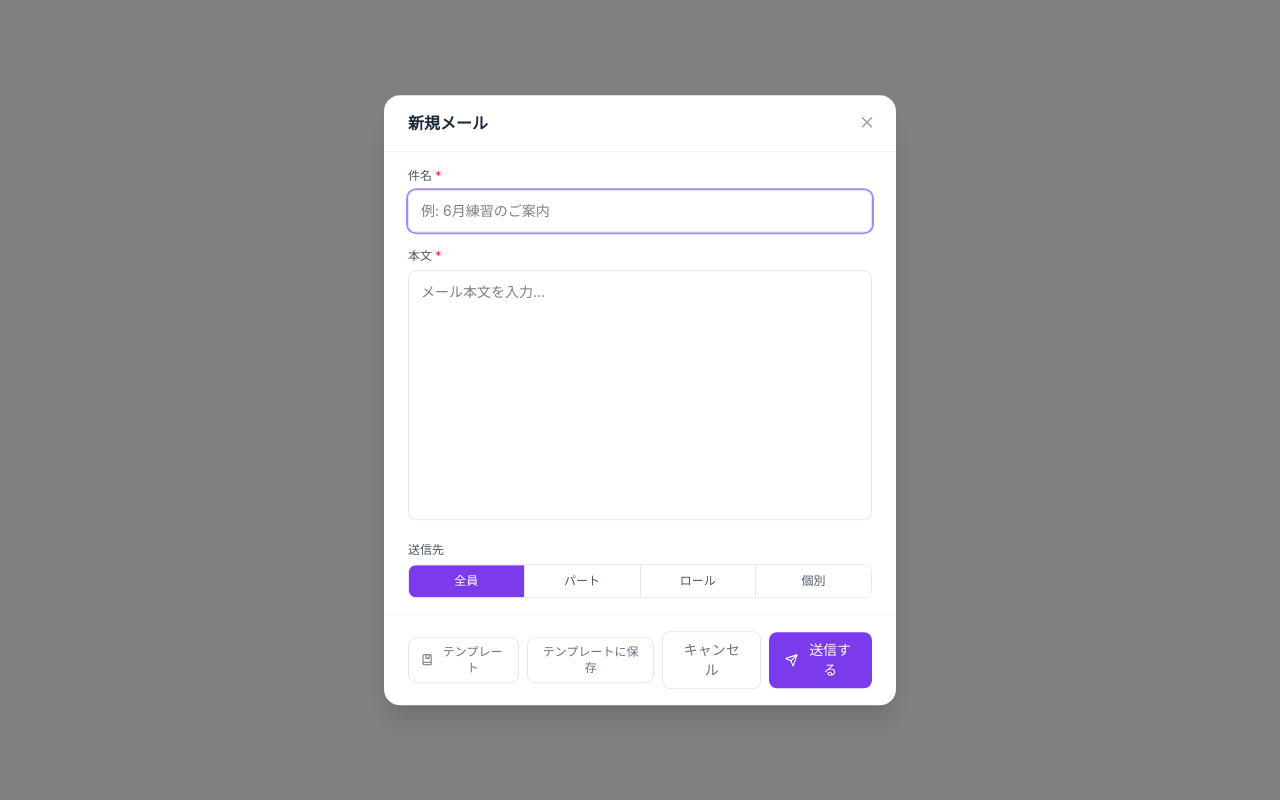
Test: ComposeModal（バリデーション） › 件名未入力で送信するとエラーメッセージを表示する
Type "本文です" into the text box with placeholder "メール本文を入力..." at point(640, 395), box [408,270,872,520]
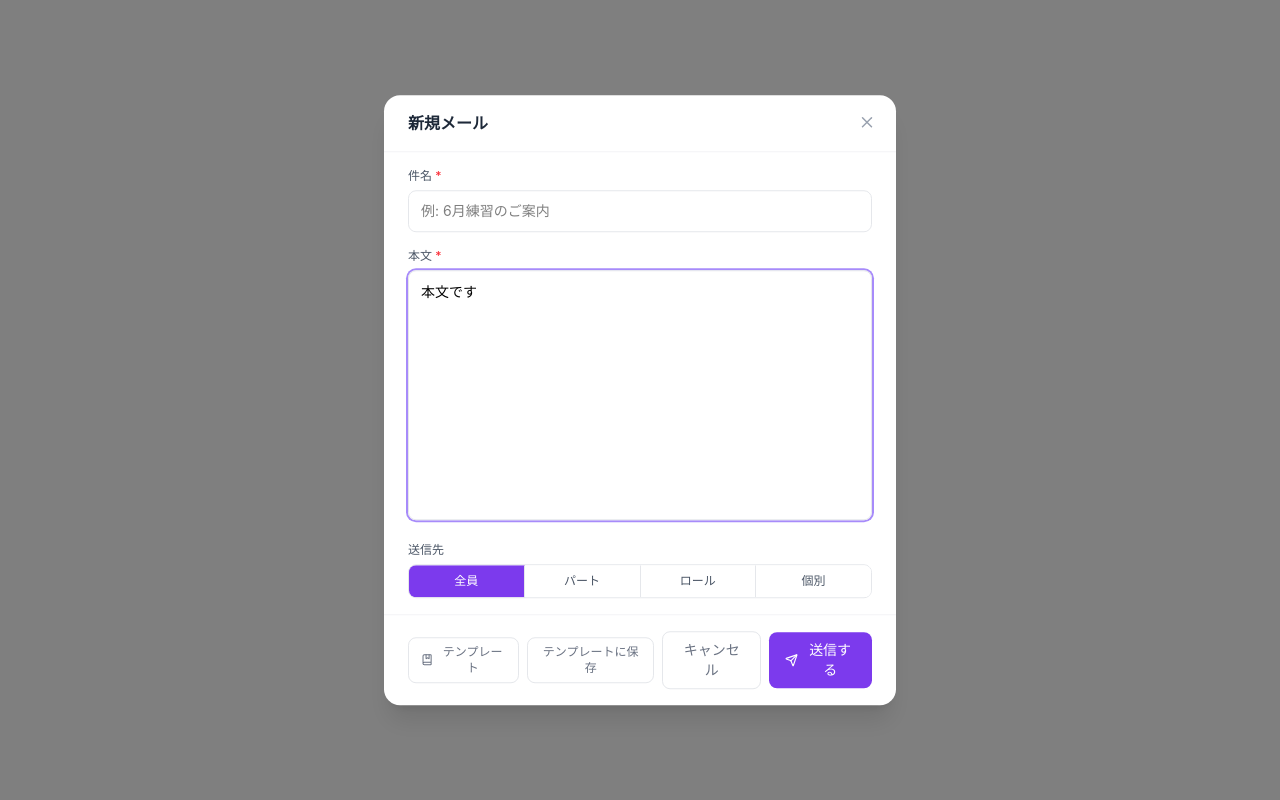
Click the button "送信する" at point(821, 660), box [769,632,872,688]
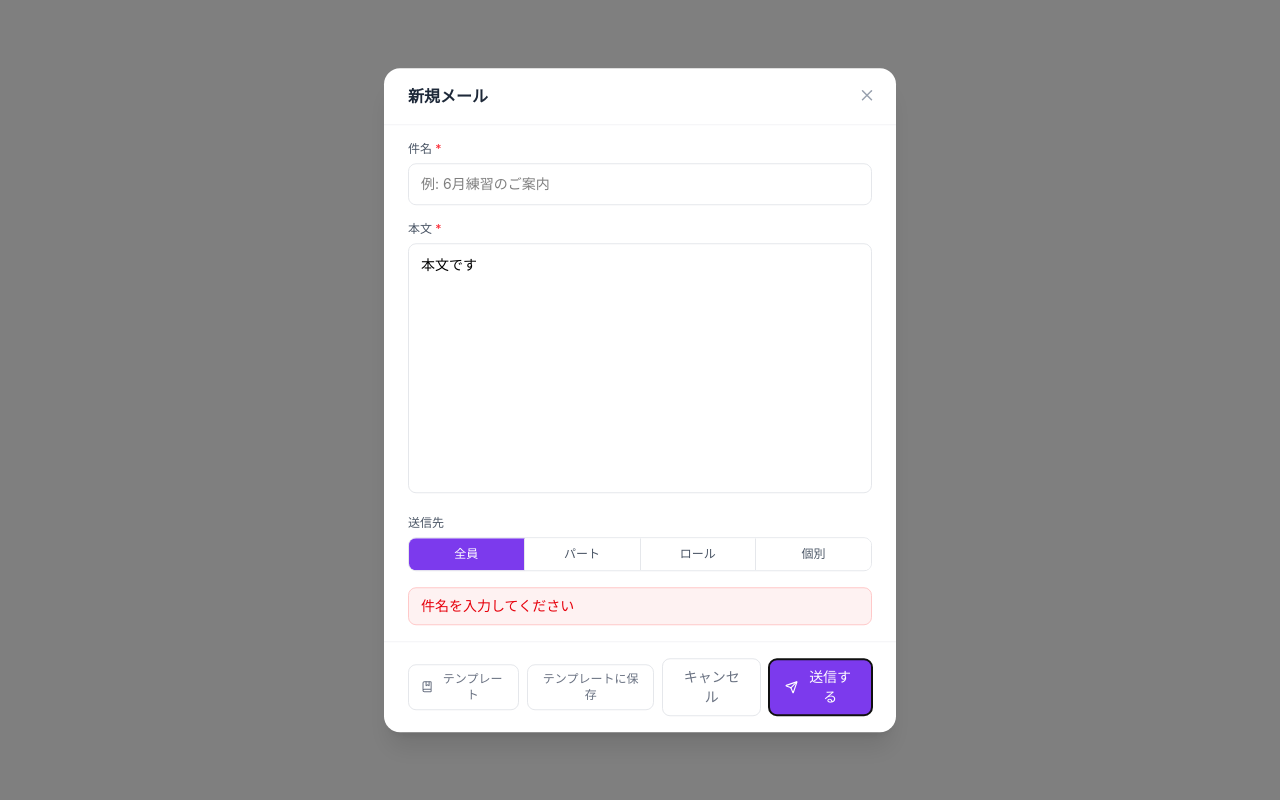
Expected: the text "件名を入力してください" is shown, [408,587,872,625]
